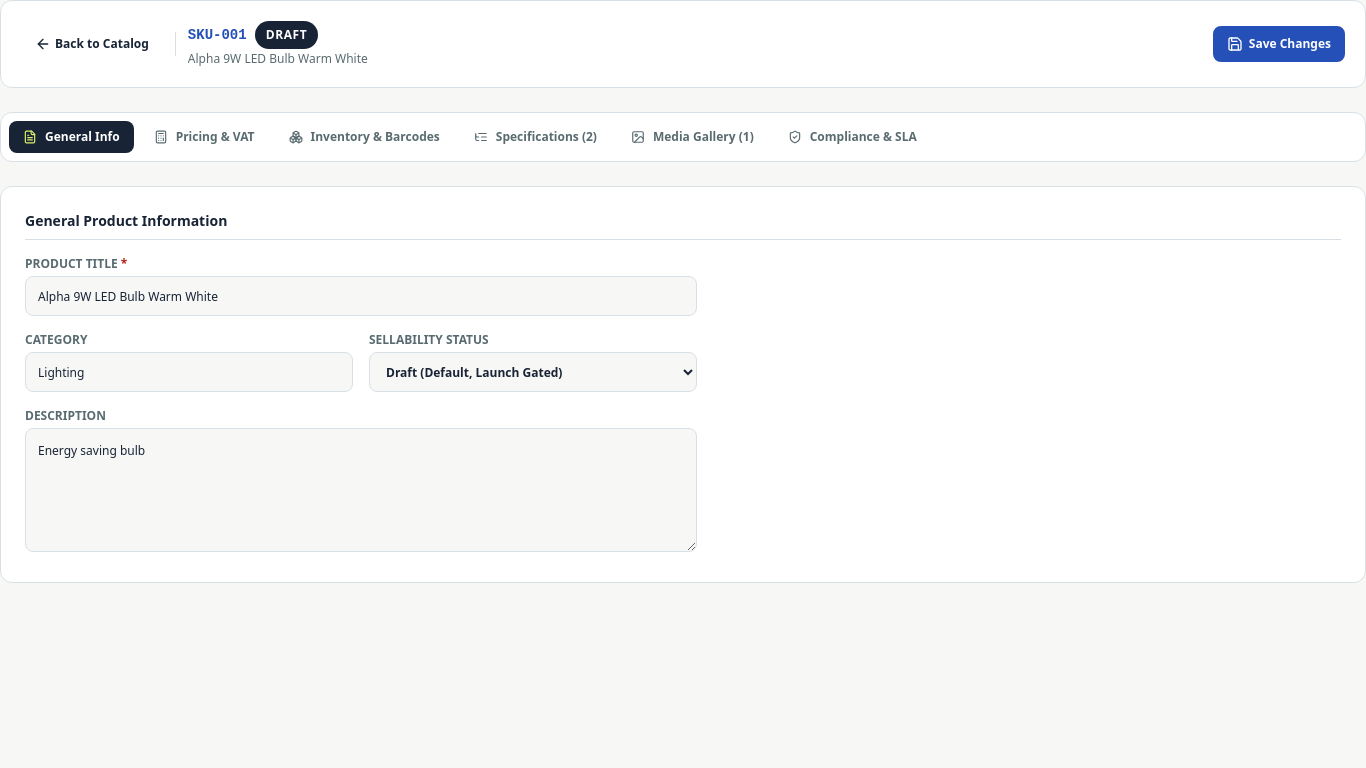
Test: ToolCart Retail Admin Portal Hardening & Verification Suite › Feature 9–15: ProductEditorForm Tabbed Navigation & Live Calculations › adjusts stock quantity with quick increment buttons
Click the button "Inventory & Barcodes".
click(364, 137)  # box [274,121,454,153]
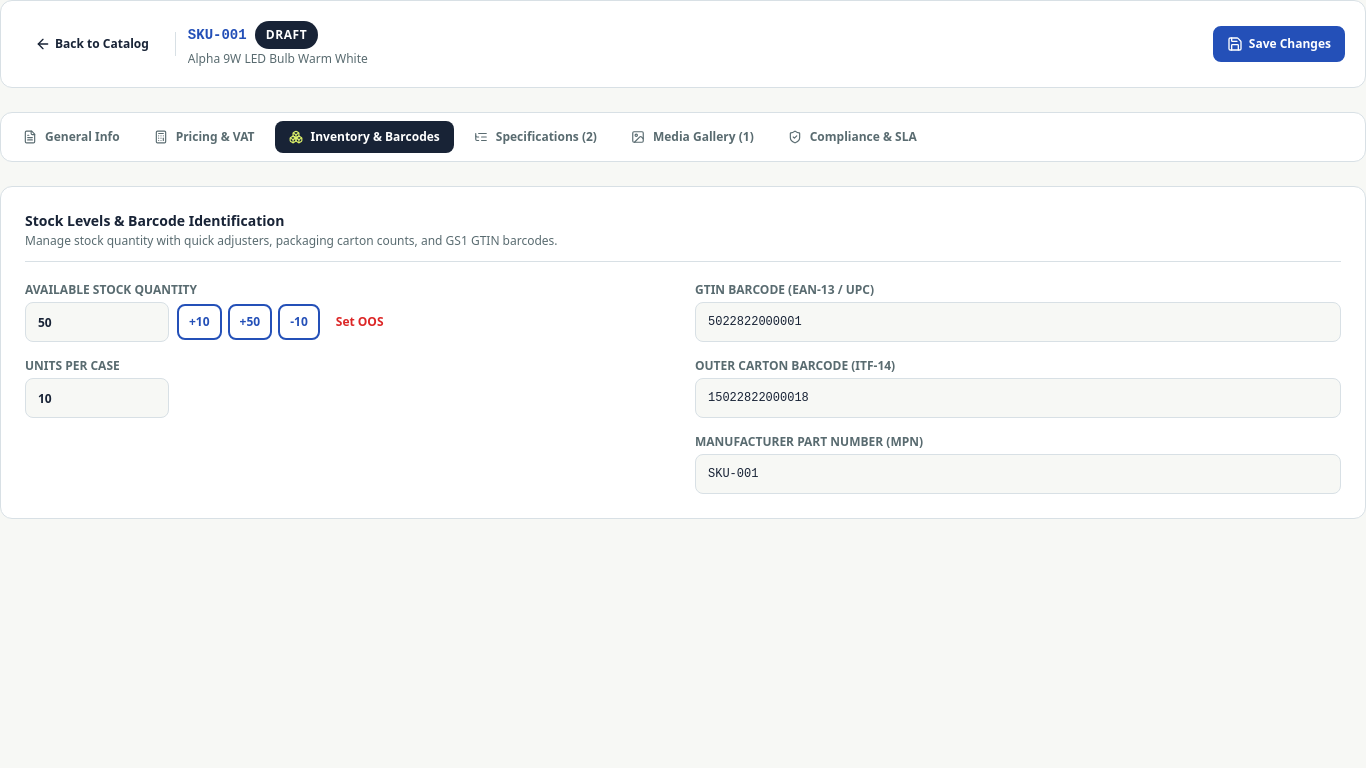
Expected: the number field labelled "Available Stock Quantity" holds "50", [25,302,169,342]
Click the button "+10".
click(199, 322)  # box [177,304,222,340]
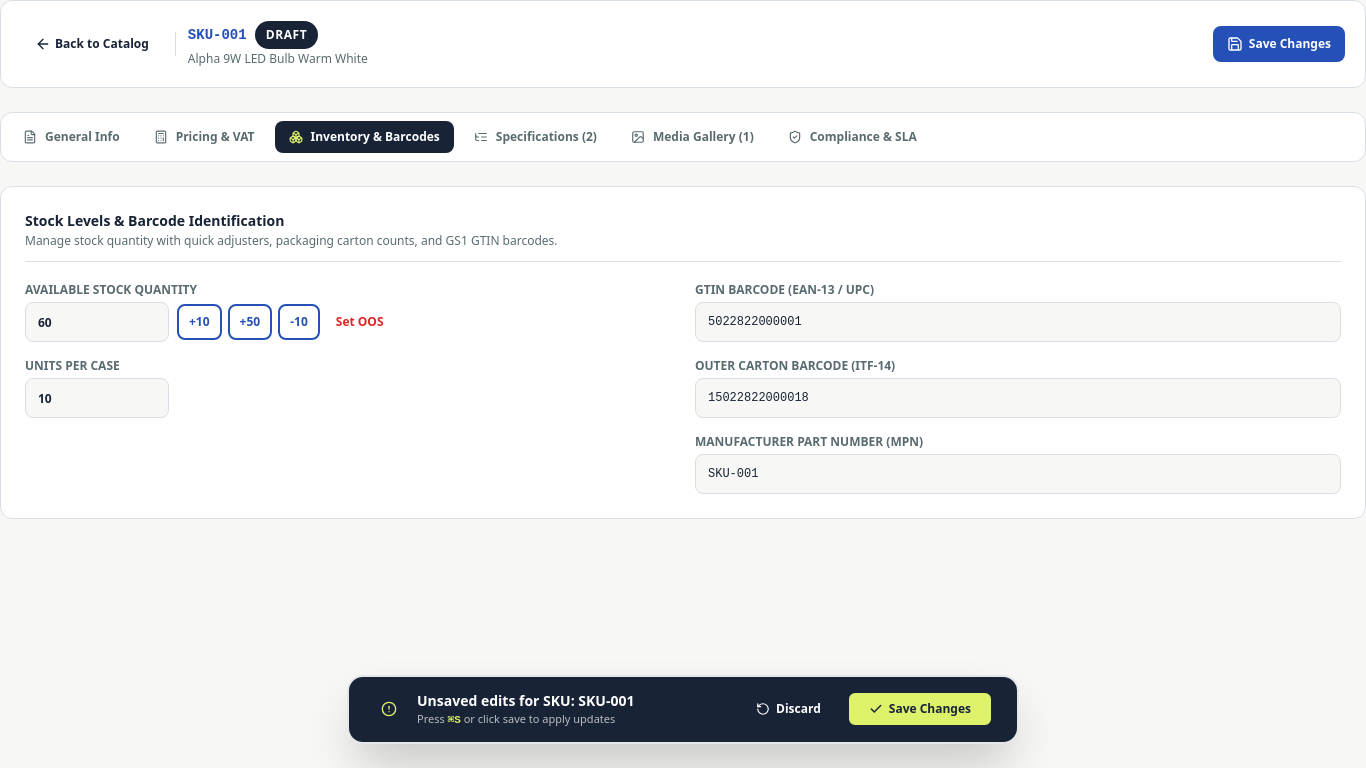
Expected: the number field labelled "Available Stock Quantity" holds "60", [25,302,169,342]
Click the button "Set OOS".
click(360, 322)  # box [326,304,394,340]
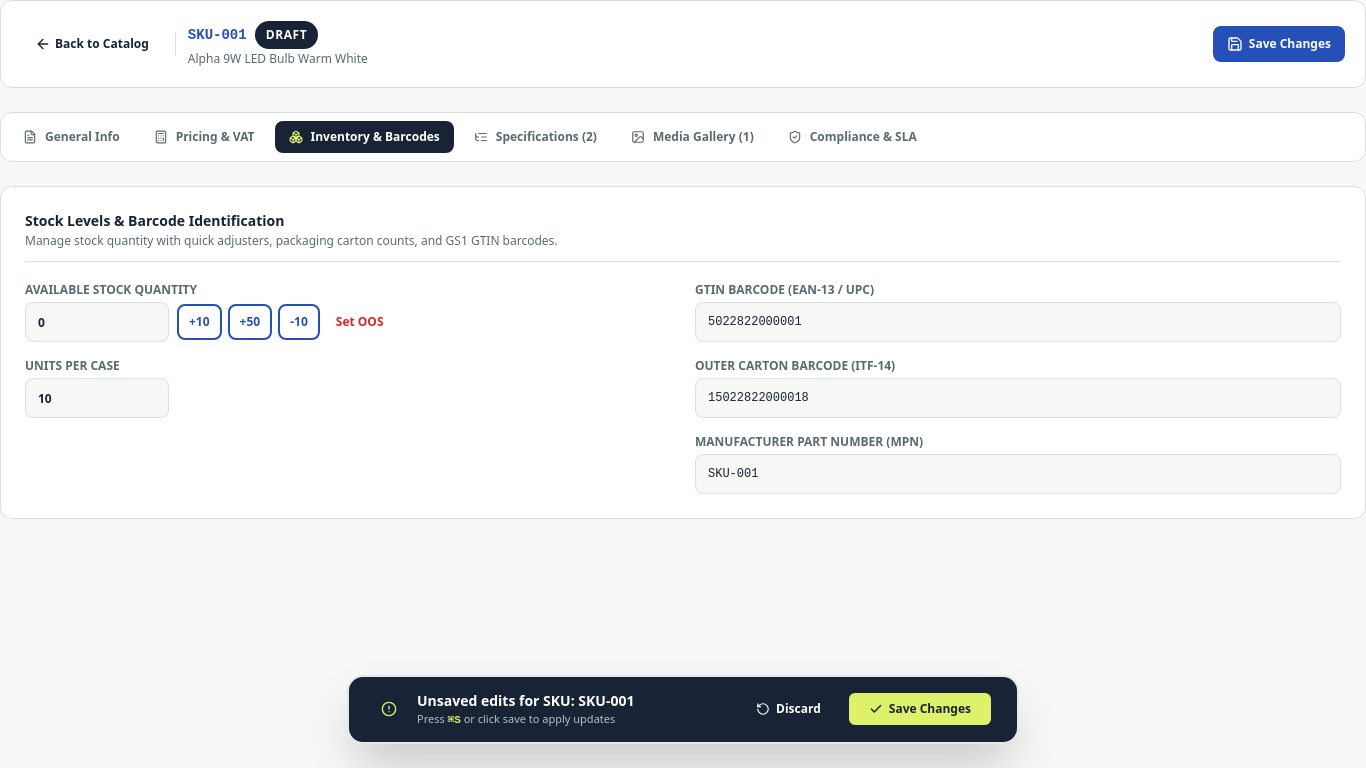
Expected: the number field labelled "Available Stock Quantity" holds "0", [25,302,169,342]
